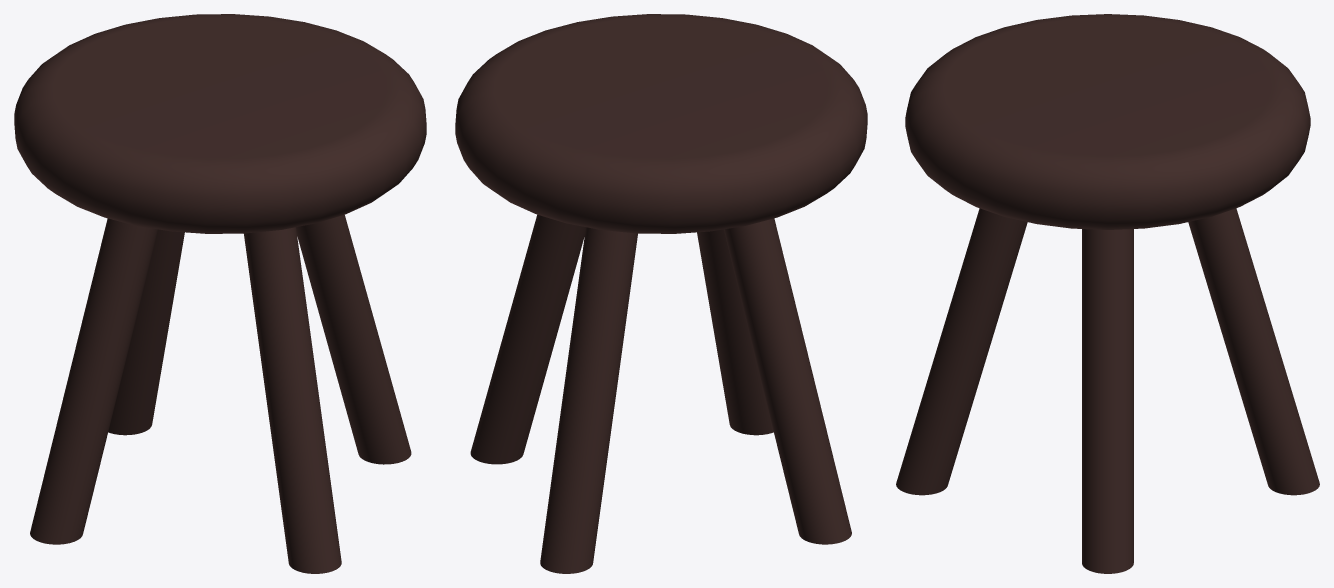
The model's file is Tabouret2_7.fbx.
3 views of the same model, side by side, from view 1: azimuth 30°, elevation 25°; view 2: azimuth 150°, elevation 25°; view 3: azimuth 270°, elevation 25° (orthographic).
Parts seen in each view (by area): view 1: pCylinder1616, pCylinder1635; view 2: pCylinder1616, pCylinder1635; view 3: pCylinder1616, pCylinder1635.
Part boxes in pixels (bbox=[...]): pCylinder1616: bbox=[14, 14, 426, 233]; pCylinder1635: bbox=[30, 214, 411, 573]; pCylinder1616: bbox=[455, 14, 867, 233]; pCylinder1635: bbox=[470, 214, 851, 573]; pCylinder1616: bbox=[905, 14, 1310, 229]; pCylinder1635: bbox=[896, 208, 1319, 573].
Bounding box in the file's own units: 40.86 × 42.26 × 40.85.
